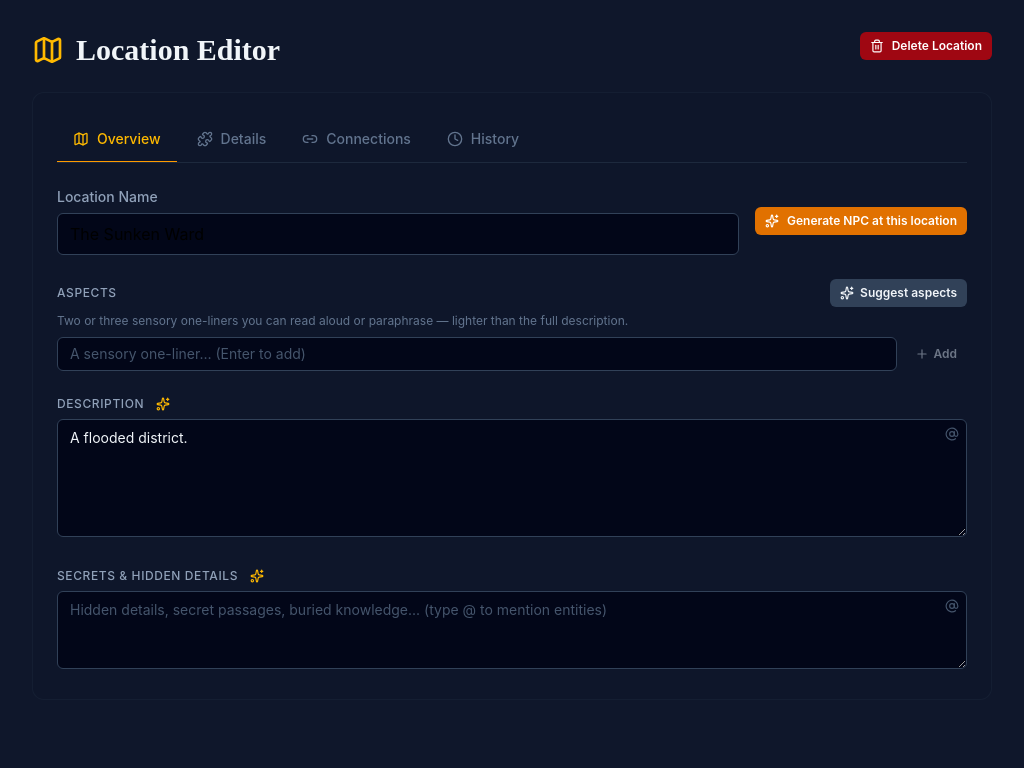
Test: LocationEditor — Suggest aspects (zero-typed-prompt AI) › shows a visible inline error when the suggestion rejects (not just console.error)
Click the button "Suggest aspects": (899, 293) x1=830 y1=279 x2=967 y2=307
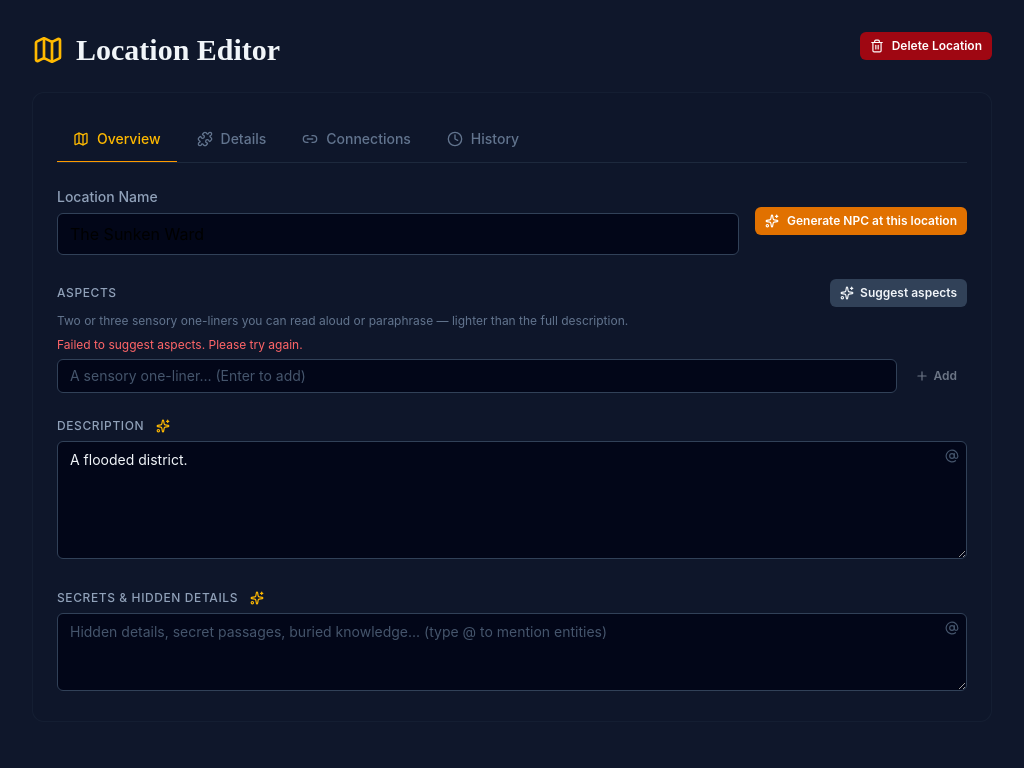
expect the message reads "Failed to suggest aspects. Please try again.": met, box x1=57 y1=337 x2=303 y2=352
